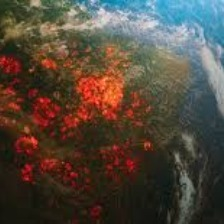incendio: (56, 85, 156, 141), (16, 151, 99, 196), (11, 93, 54, 141)
